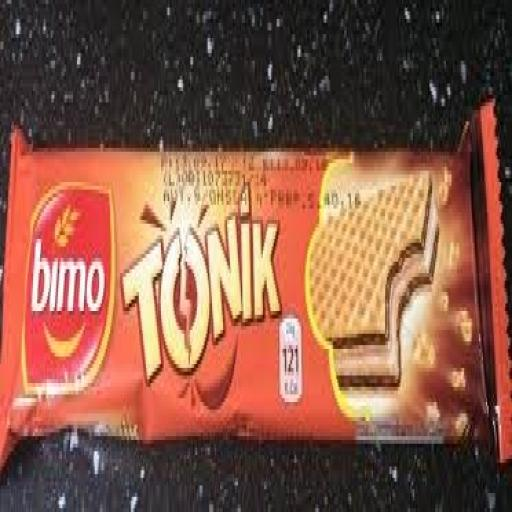tonik: (0, 41, 510, 505)
